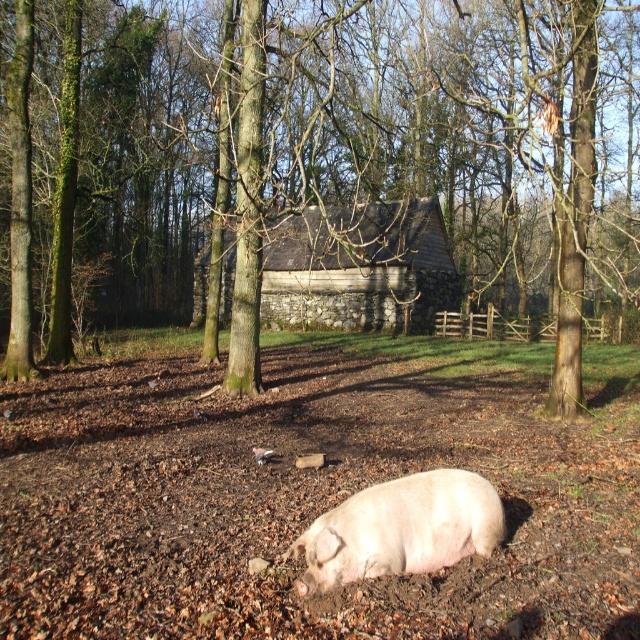Pig: (280, 468, 509, 598)
